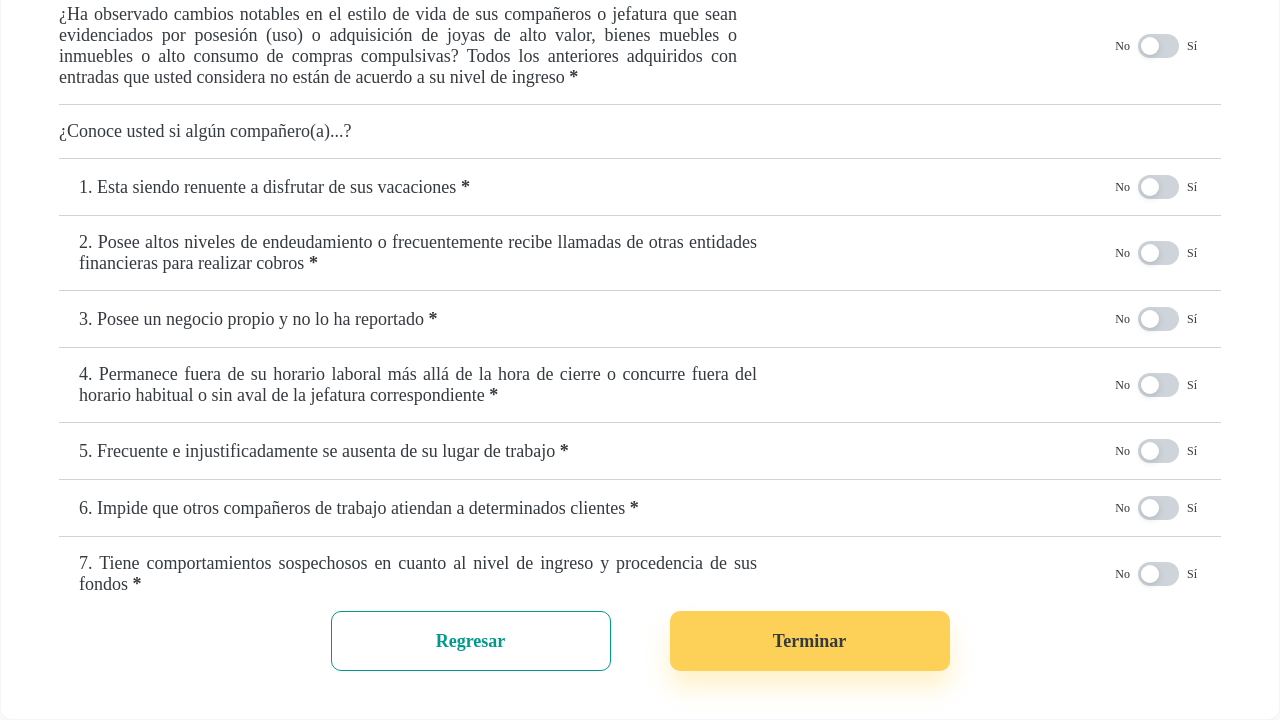
Completion (paso 12, cierre) › blocks the button while saving and confirms only when the answer arrives
(page scrolled)
What coordinates should you click on to do the following:
click the button "Terminar"
I would click on:
 (810, 641)
Its box is x1=670 y1=611 x2=950 y2=671.
(page scrolled)
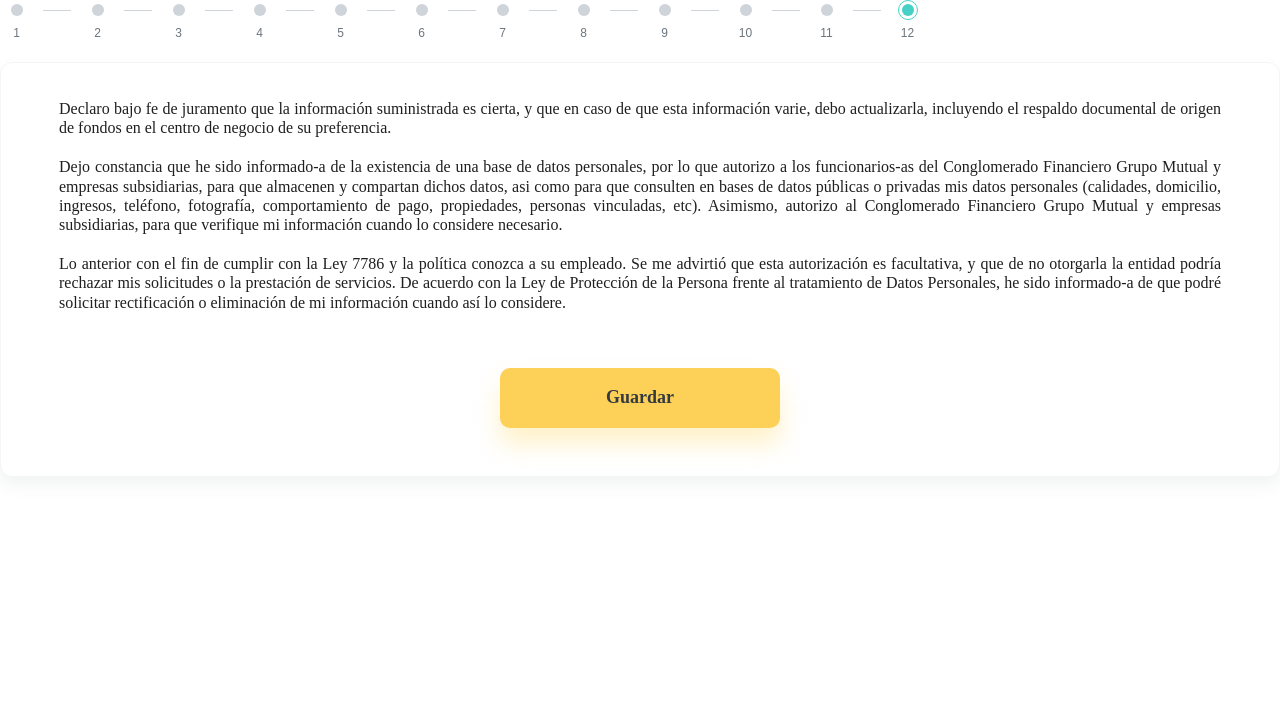
What coordinates should you click on to do the following:
click the button "Guardar"
I would click on:
 (640, 398)
Its box is x1=500 y1=368 x2=780 y2=428.
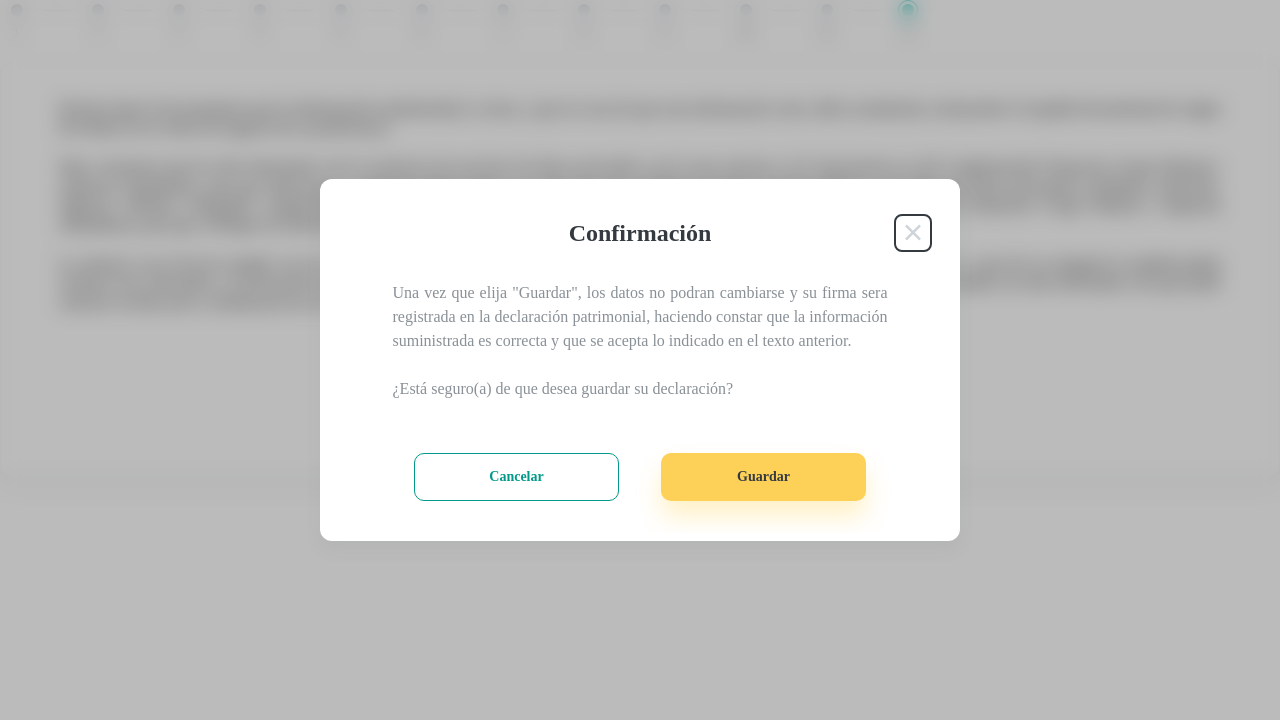
What coordinates should you click on to do the following:
click the button "Guardar"
I would click on:
 (764, 477)
Its box is x1=661 y1=453 x2=866 y2=501.
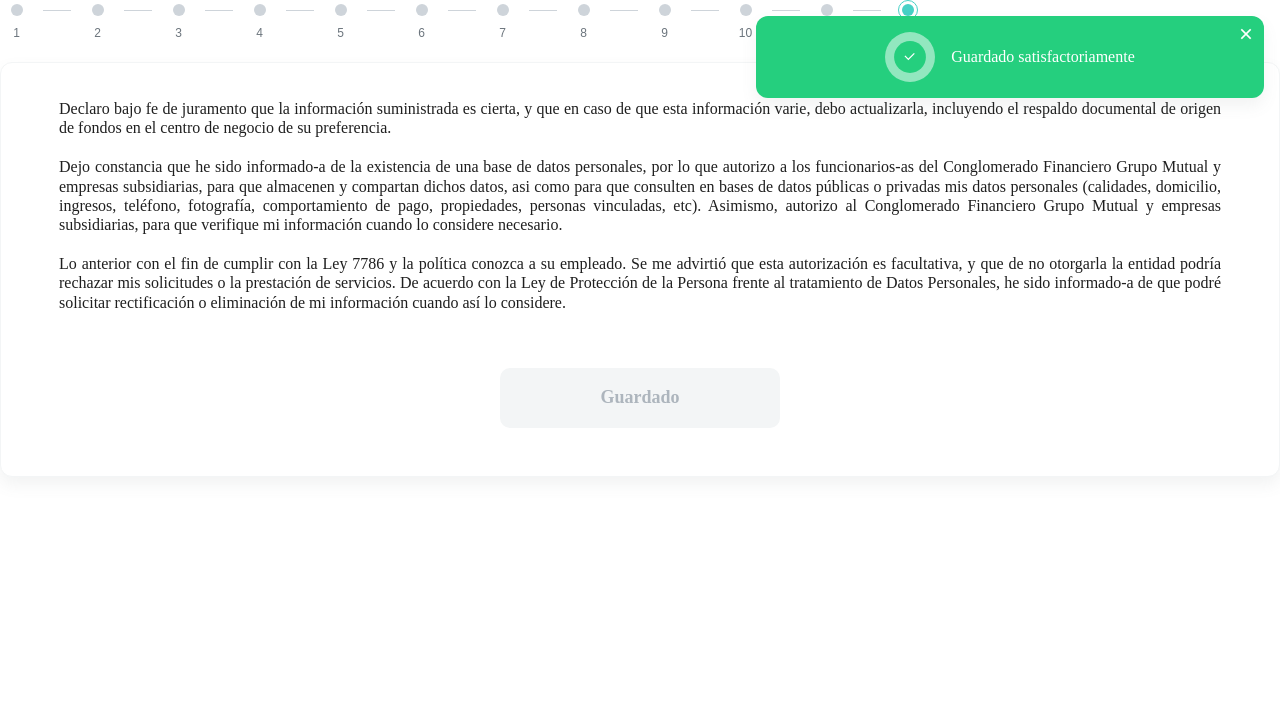
Expected: the button "Guardado" is disabled, x1=500 y1=368 x2=780 y2=428
Expected: the text "Guardado satisfactoriamente" is shown, x1=951 y1=47 x2=1135 y2=67
